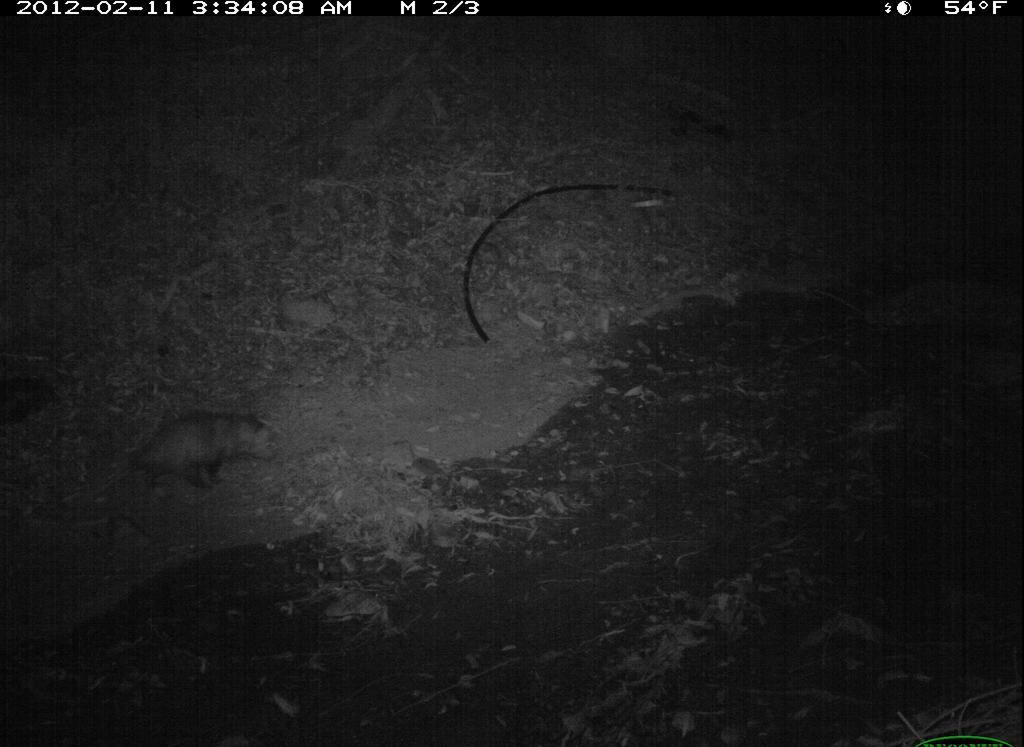opossum: (98, 405, 282, 500)
